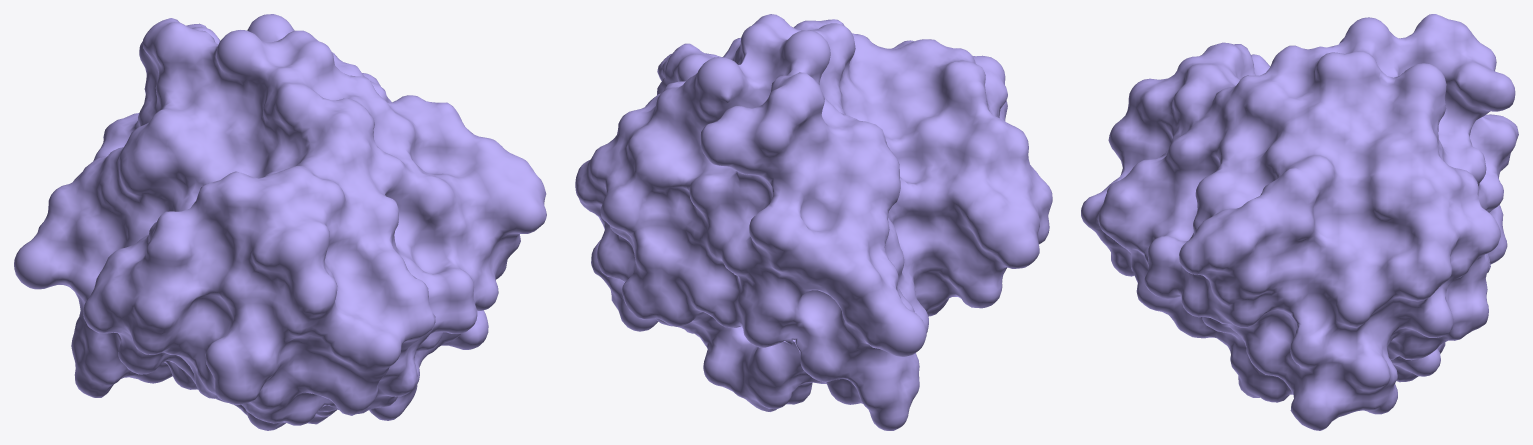
3 views of the same model, side by side, from view 1: azimuth 30°, elevation 25°; view 2: azimuth 150°, elevation 25°; view 3: azimuth 270°, elevation 25° (orthographic). The views are drawn at different scales.
Parts seen in each view (by area): view 1: 8ev4_A SES surface; view 2: 8ev4_A SES surface; view 3: 8ev4_A SES surface.
Boxes of the visible parts, box(x1,y1,x2,y2) form: 8ev4_A SES surface: box(14, 14, 546, 430); 8ev4_A SES surface: box(575, 14, 1052, 430); 8ev4_A SES surface: box(1081, 14, 1518, 430).
Size of the model in its own units: 36.84 by 31.8 by 35.96.
